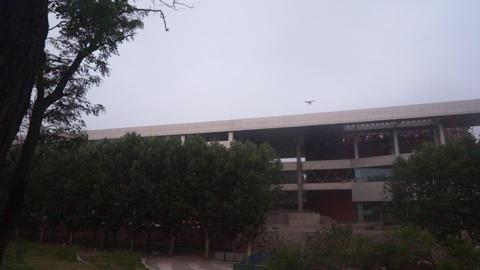UAV: (304, 101, 315, 106)
